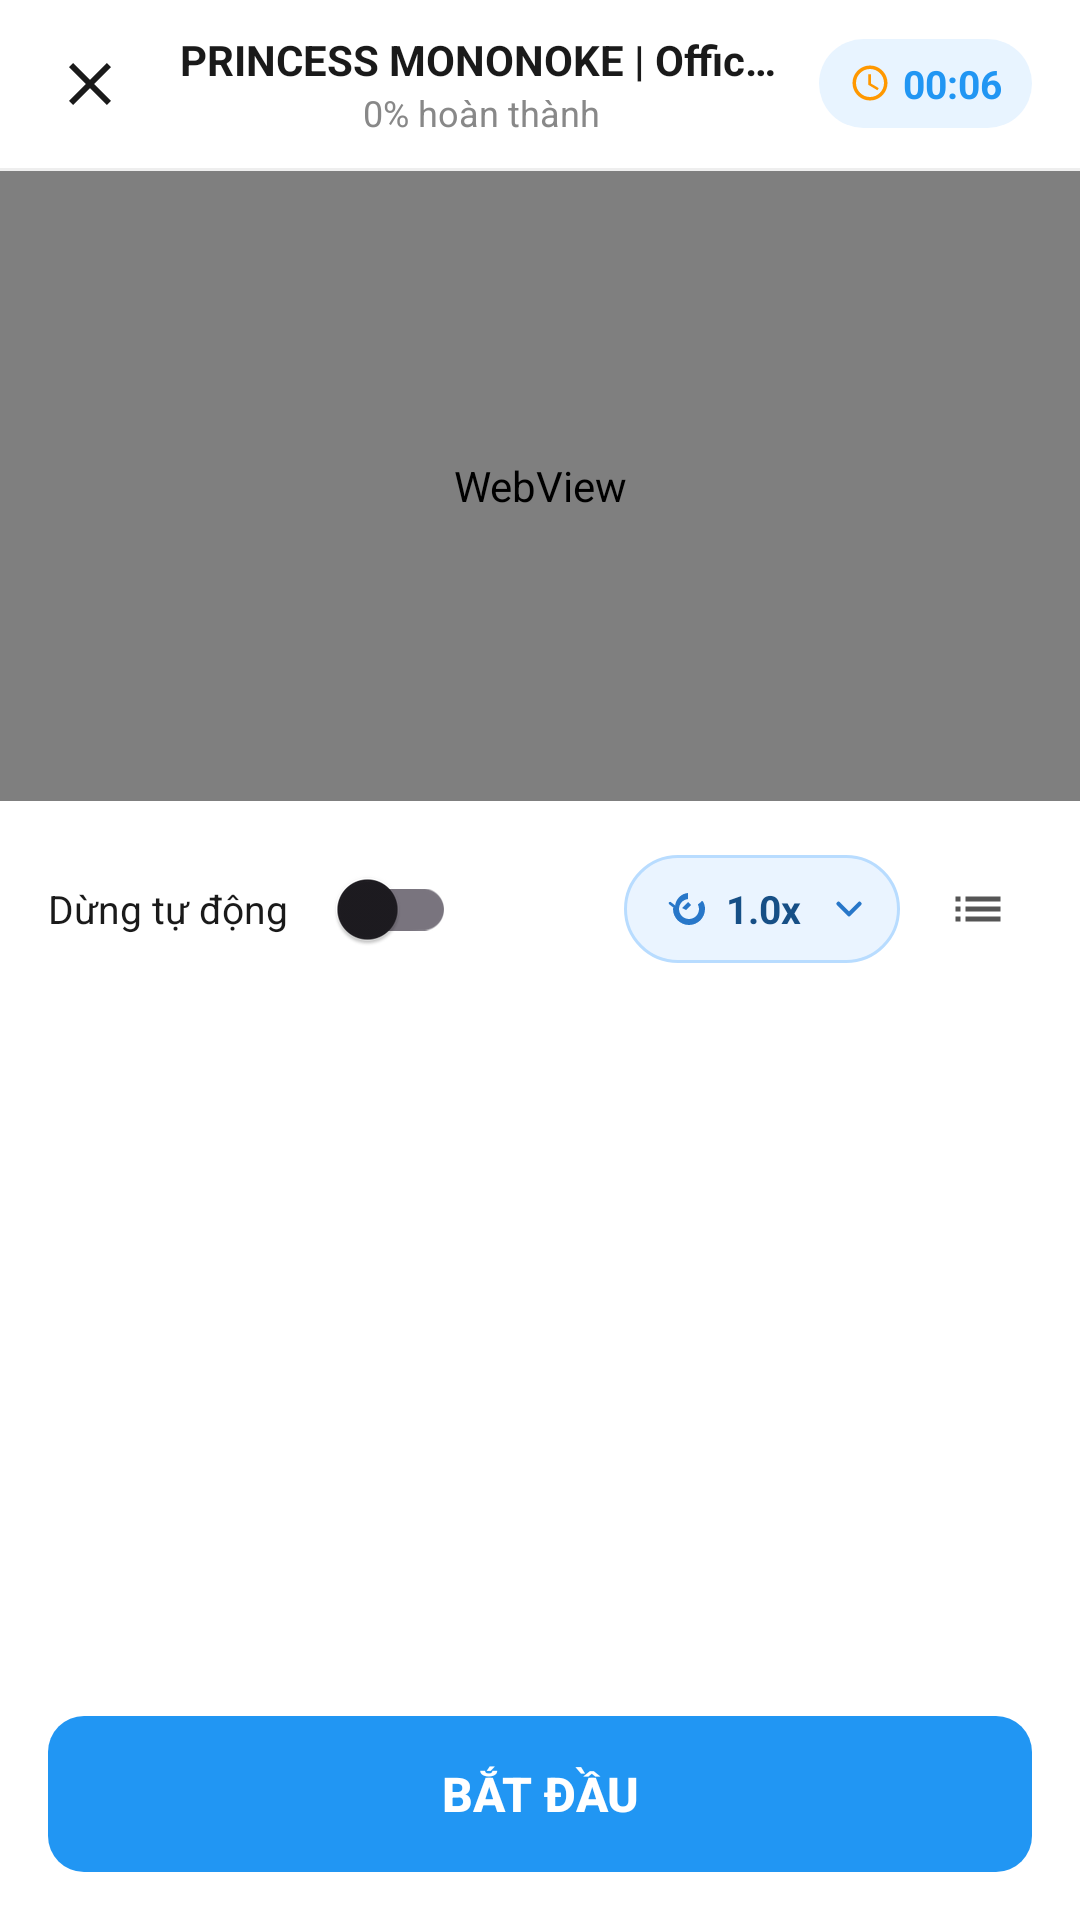

Icons on this 1080*1920 Android screen, each with its box as (left=x1, top=y1, right=x2, bottom=y2):
close: (left=69, top=63, right=111, bottom=105)
open speed options: (left=836, top=901, right=862, bottom=917)
speed: (left=668, top=893, right=705, bottom=925)
timer: (left=852, top=65, right=888, bottom=101)
transcript: (left=955, top=896, right=1001, bottom=922)
